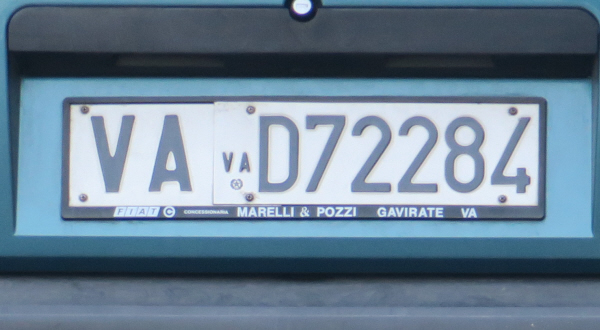license_plate: (62, 97, 546, 218)
